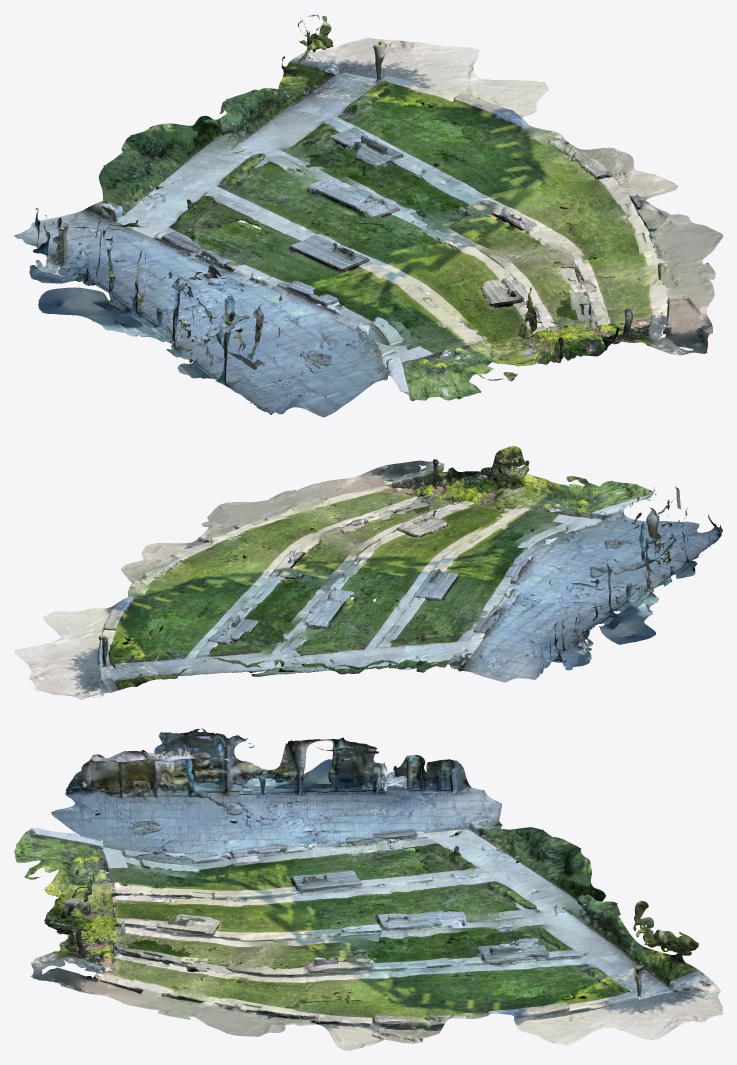
The model's file is Tata_Green.glb.
3 views of the same model, one above another, from view 1: azimuth 30°, elevation 25°; view 2: azimuth 150°, elevation 25°; view 3: azimuth 270°, elevation 25° (orthographic). The views are drawn at different scales.
Size of the model in its own units: 34.42 by 5.91 by 39.49.
10 materials, 10 textured.
